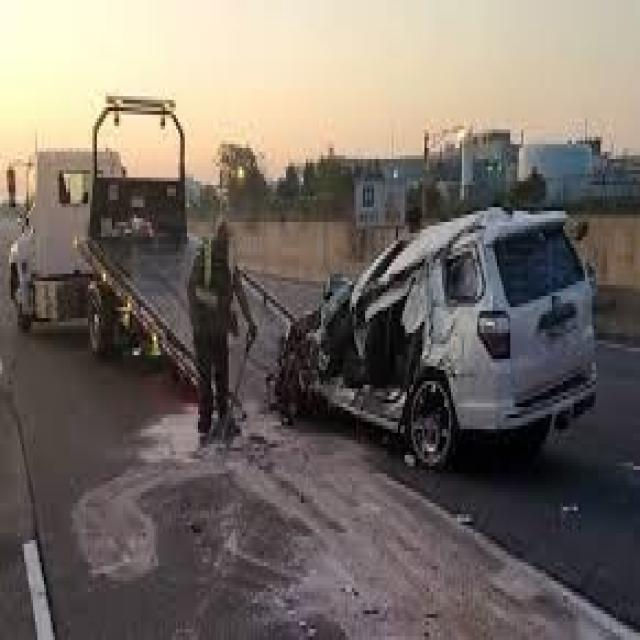accident: (270, 200, 598, 489)
